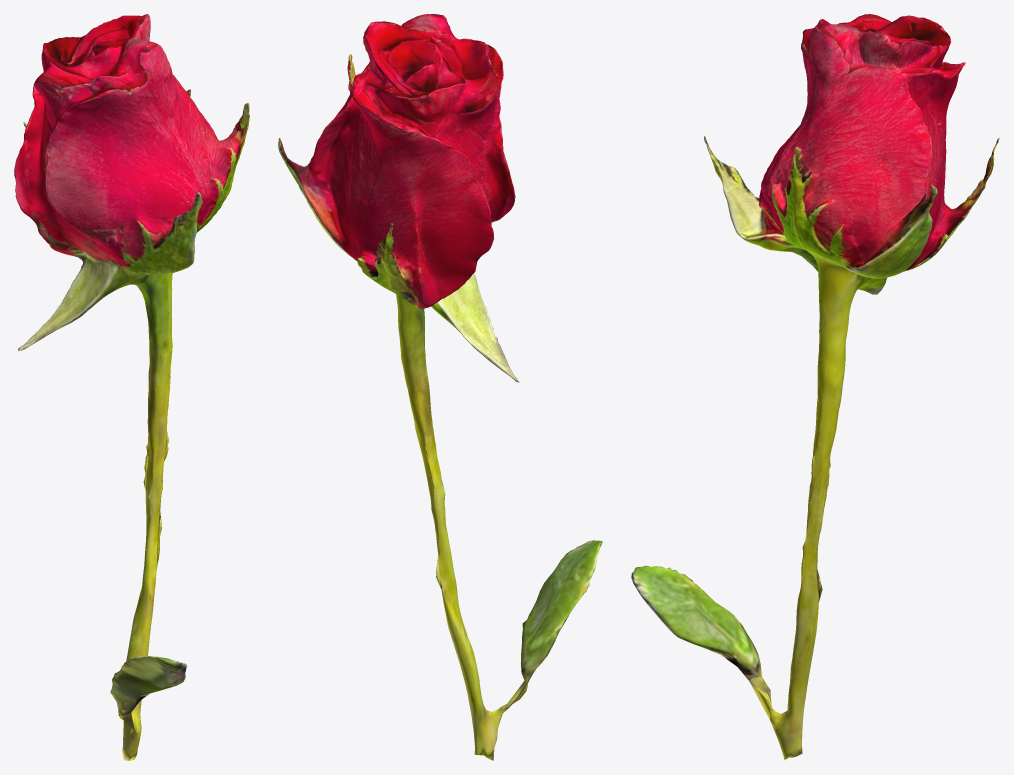
The model's file is rose1.glb.
The picture shows the model from 3 angles, left to right: view 1: azimuth 30°, elevation 25°; view 2: azimuth 150°, elevation 25°; view 3: azimuth 270°, elevation 25°; orthographic projection. The views are drawn at different scales.
Parts seen in each view (by area): view 1: Object_2; view 2: Object_2; view 3: Object_2.
Part boxes in pixels (x1=…): Object_2: x1=14, y1=14, x2=249, y2=760; Object_2: x1=278, y1=14, x2=602, y2=760; Object_2: x1=631, y1=14, x2=999, y2=760.
Size of the model in its own units: 0.2742 by 0.9251 by 0.4073.
1 material, 1 textured.
